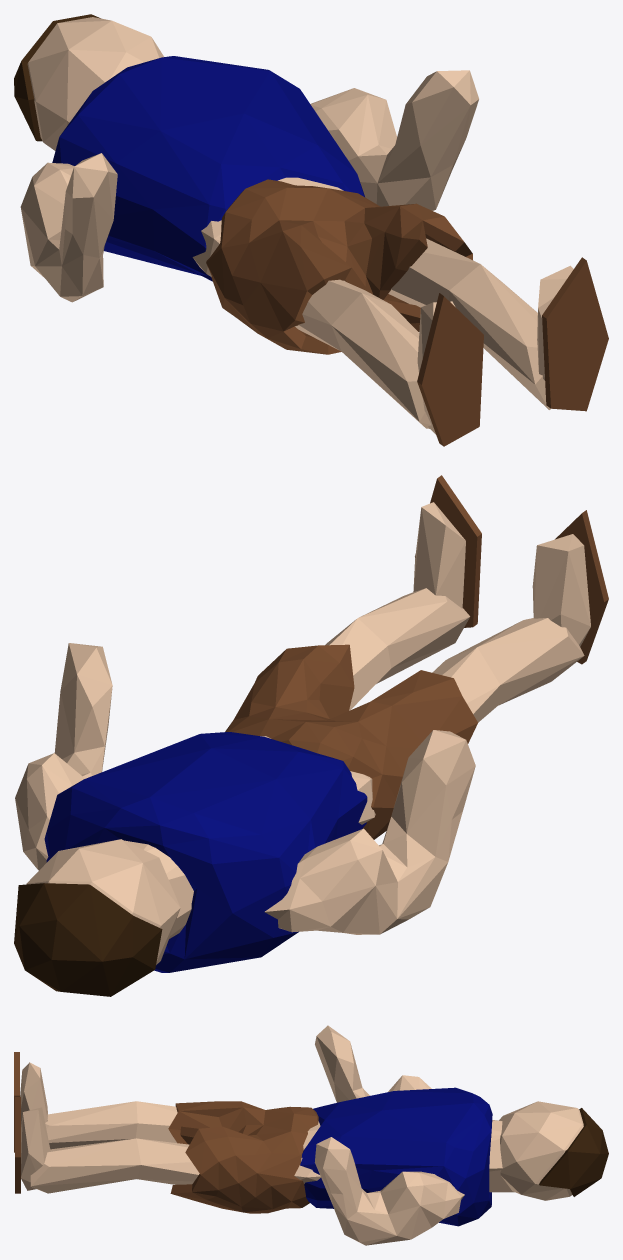
Rendered from villager.fbx.
The picture shows the model from 3 angles, top to bottom: view 1: azimuth 30°, elevation 25°; view 2: azimuth 150°, elevation 25°; view 3: azimuth 270°, elevation 25°; orthographic projection. The views are drawn at different scales.
Visible parts, largest first — view 1: Cube.002; view 2: Cube.002; view 3: Cube.002.
Part boxes in pixels (left/top/right/bottom): Cube.002: left=14, top=14, right=608, bottom=446; Cube.002: left=14, top=475, right=608, bottom=996; Cube.002: left=14, top=1025, right=608, bottom=1245.
Size of the model in its own units: 13580 by 6837 by 26830.
